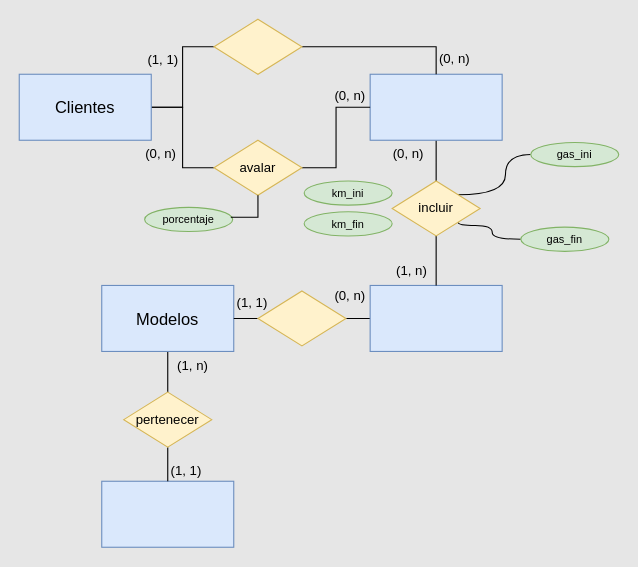
Image size: 638x567. Some labels were removed from this diagram. Here are the shapes that lost their labels. From the top down, the centre of each, then its label:
point 257,46: realizar
point 435,106: Reservas
point 301,318: tener
point 435,317: Coches
point 167,513: Marcas
